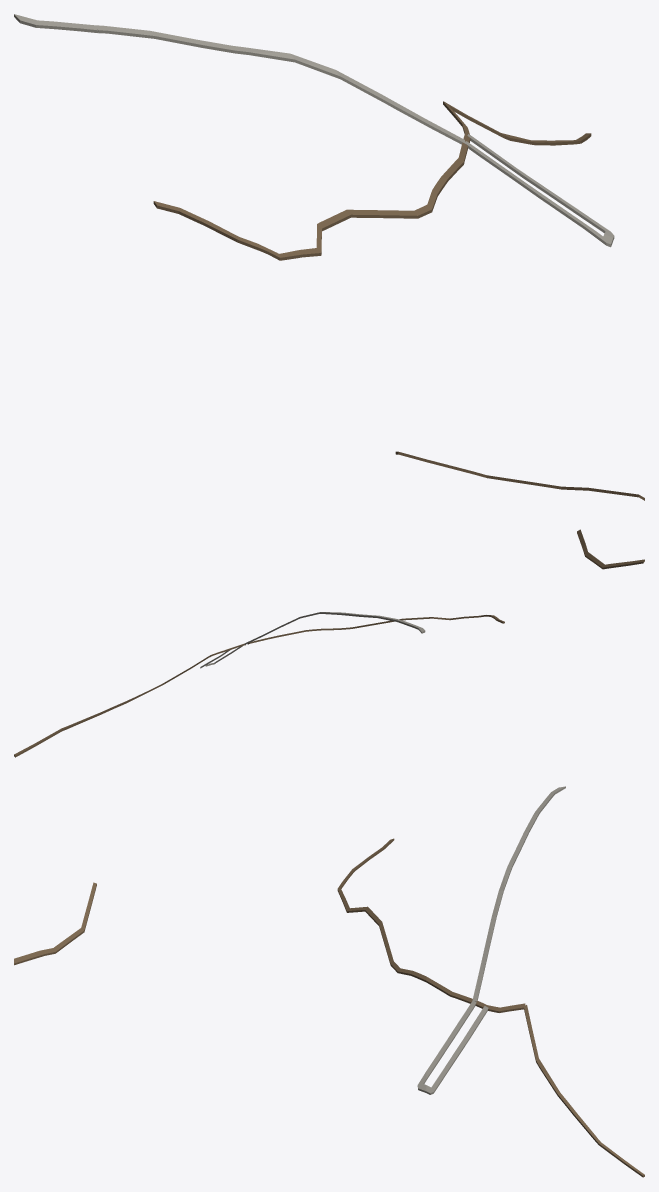
The model's file is 17-109452-59482.2a86cfb4.glb.
3 views of the same model, one above another, from view 1: azimuth 30°, elevation 25°; view 2: azimuth 150°, elevation 25°; view 3: azimuth 270°, elevation 25° (orthographic). The views are drawn at different scales.
Size of the model in its own units: 161 by 77.77 by 223.
